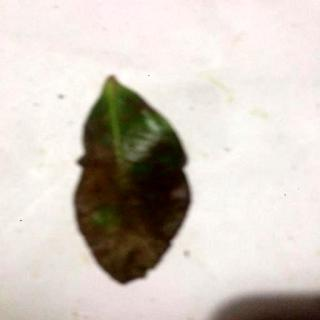Red Leaf Spot: (74, 76, 192, 286)
